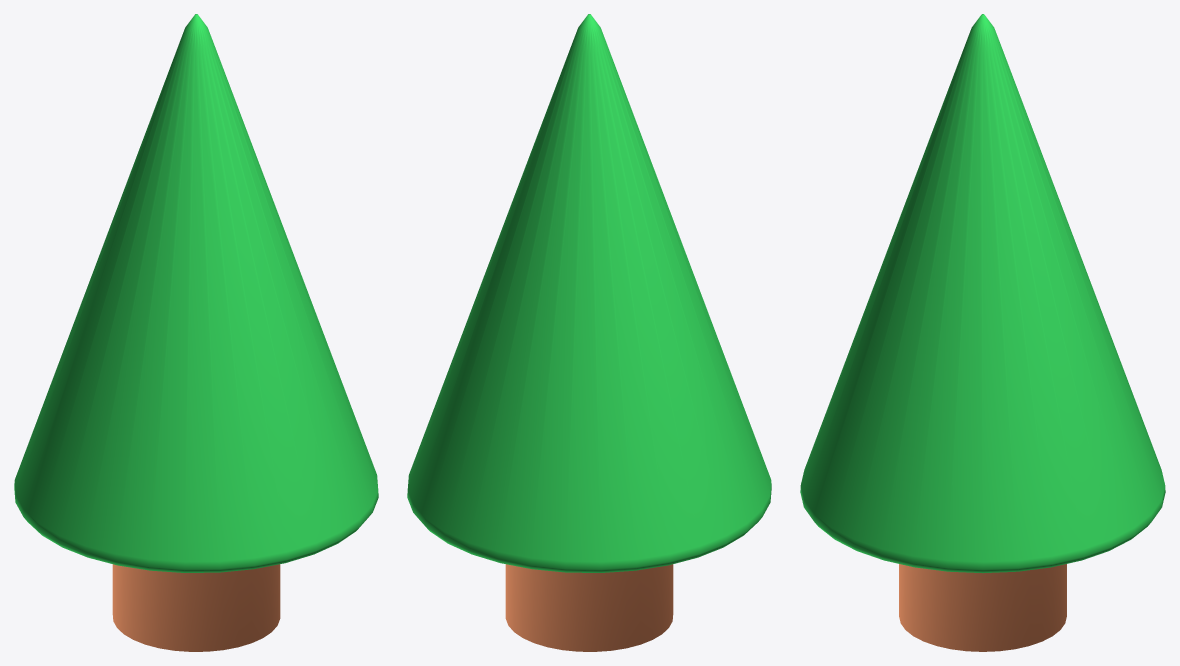
File: PROP_tree 3.fbx
The picture shows the model from 3 angles, left to right: view 1: azimuth 30°, elevation 25°; view 2: azimuth 150°, elevation 25°; view 3: azimuth 270°, elevation 25°; orthographic projection.
Visible parts, largest first — view 1: Cone.001; view 2: Cone.001; view 3: Cone.001.
Boxes of the visible parts, x1,y1,x2,y2 form: Cone.001: [14, 14, 378, 651]; Cone.001: [407, 14, 771, 651]; Cone.001: [800, 14, 1165, 651].
Bounding box in the file's own units: 277 × 503 × 277.
